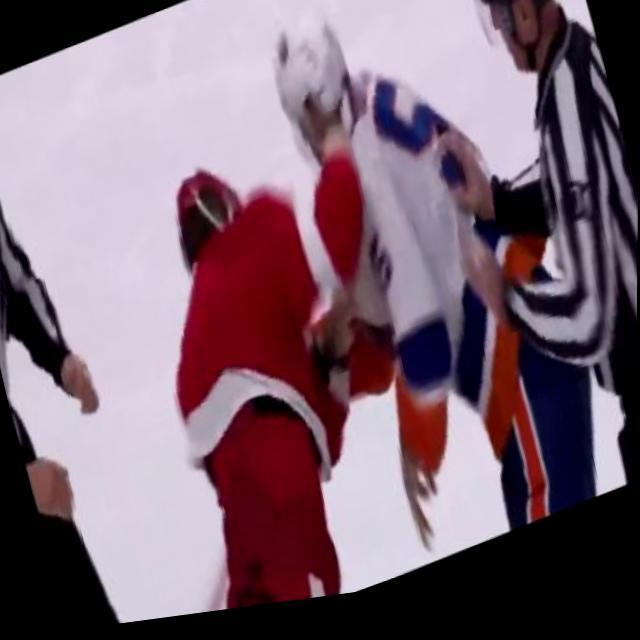fight: (93, 0, 552, 630)
